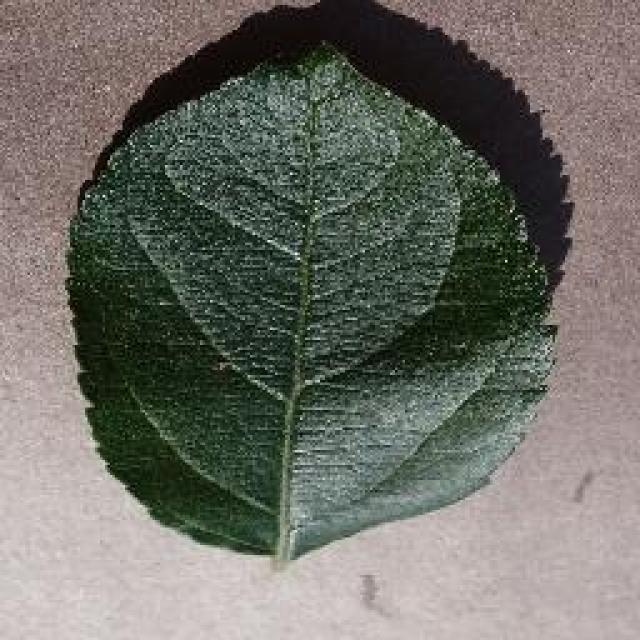apple healthy: (63, 17, 565, 565)
